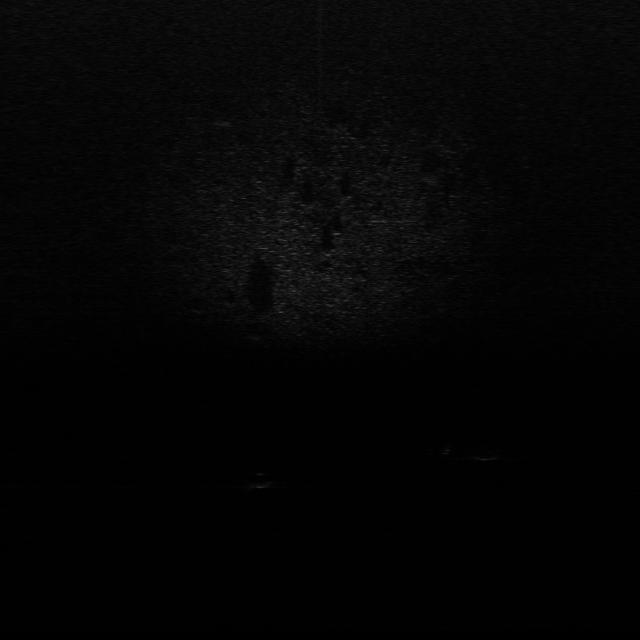ball: (242, 468, 278, 493)
human body: (440, 439, 526, 464)
